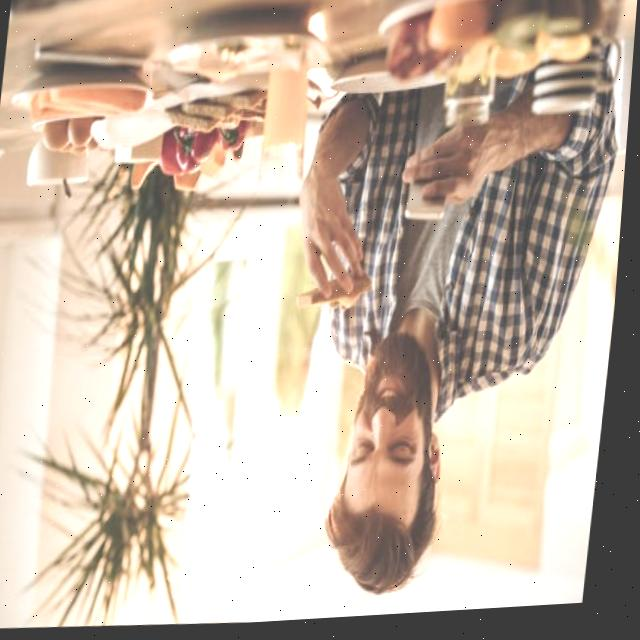eating-person: (261, 0, 639, 620)
